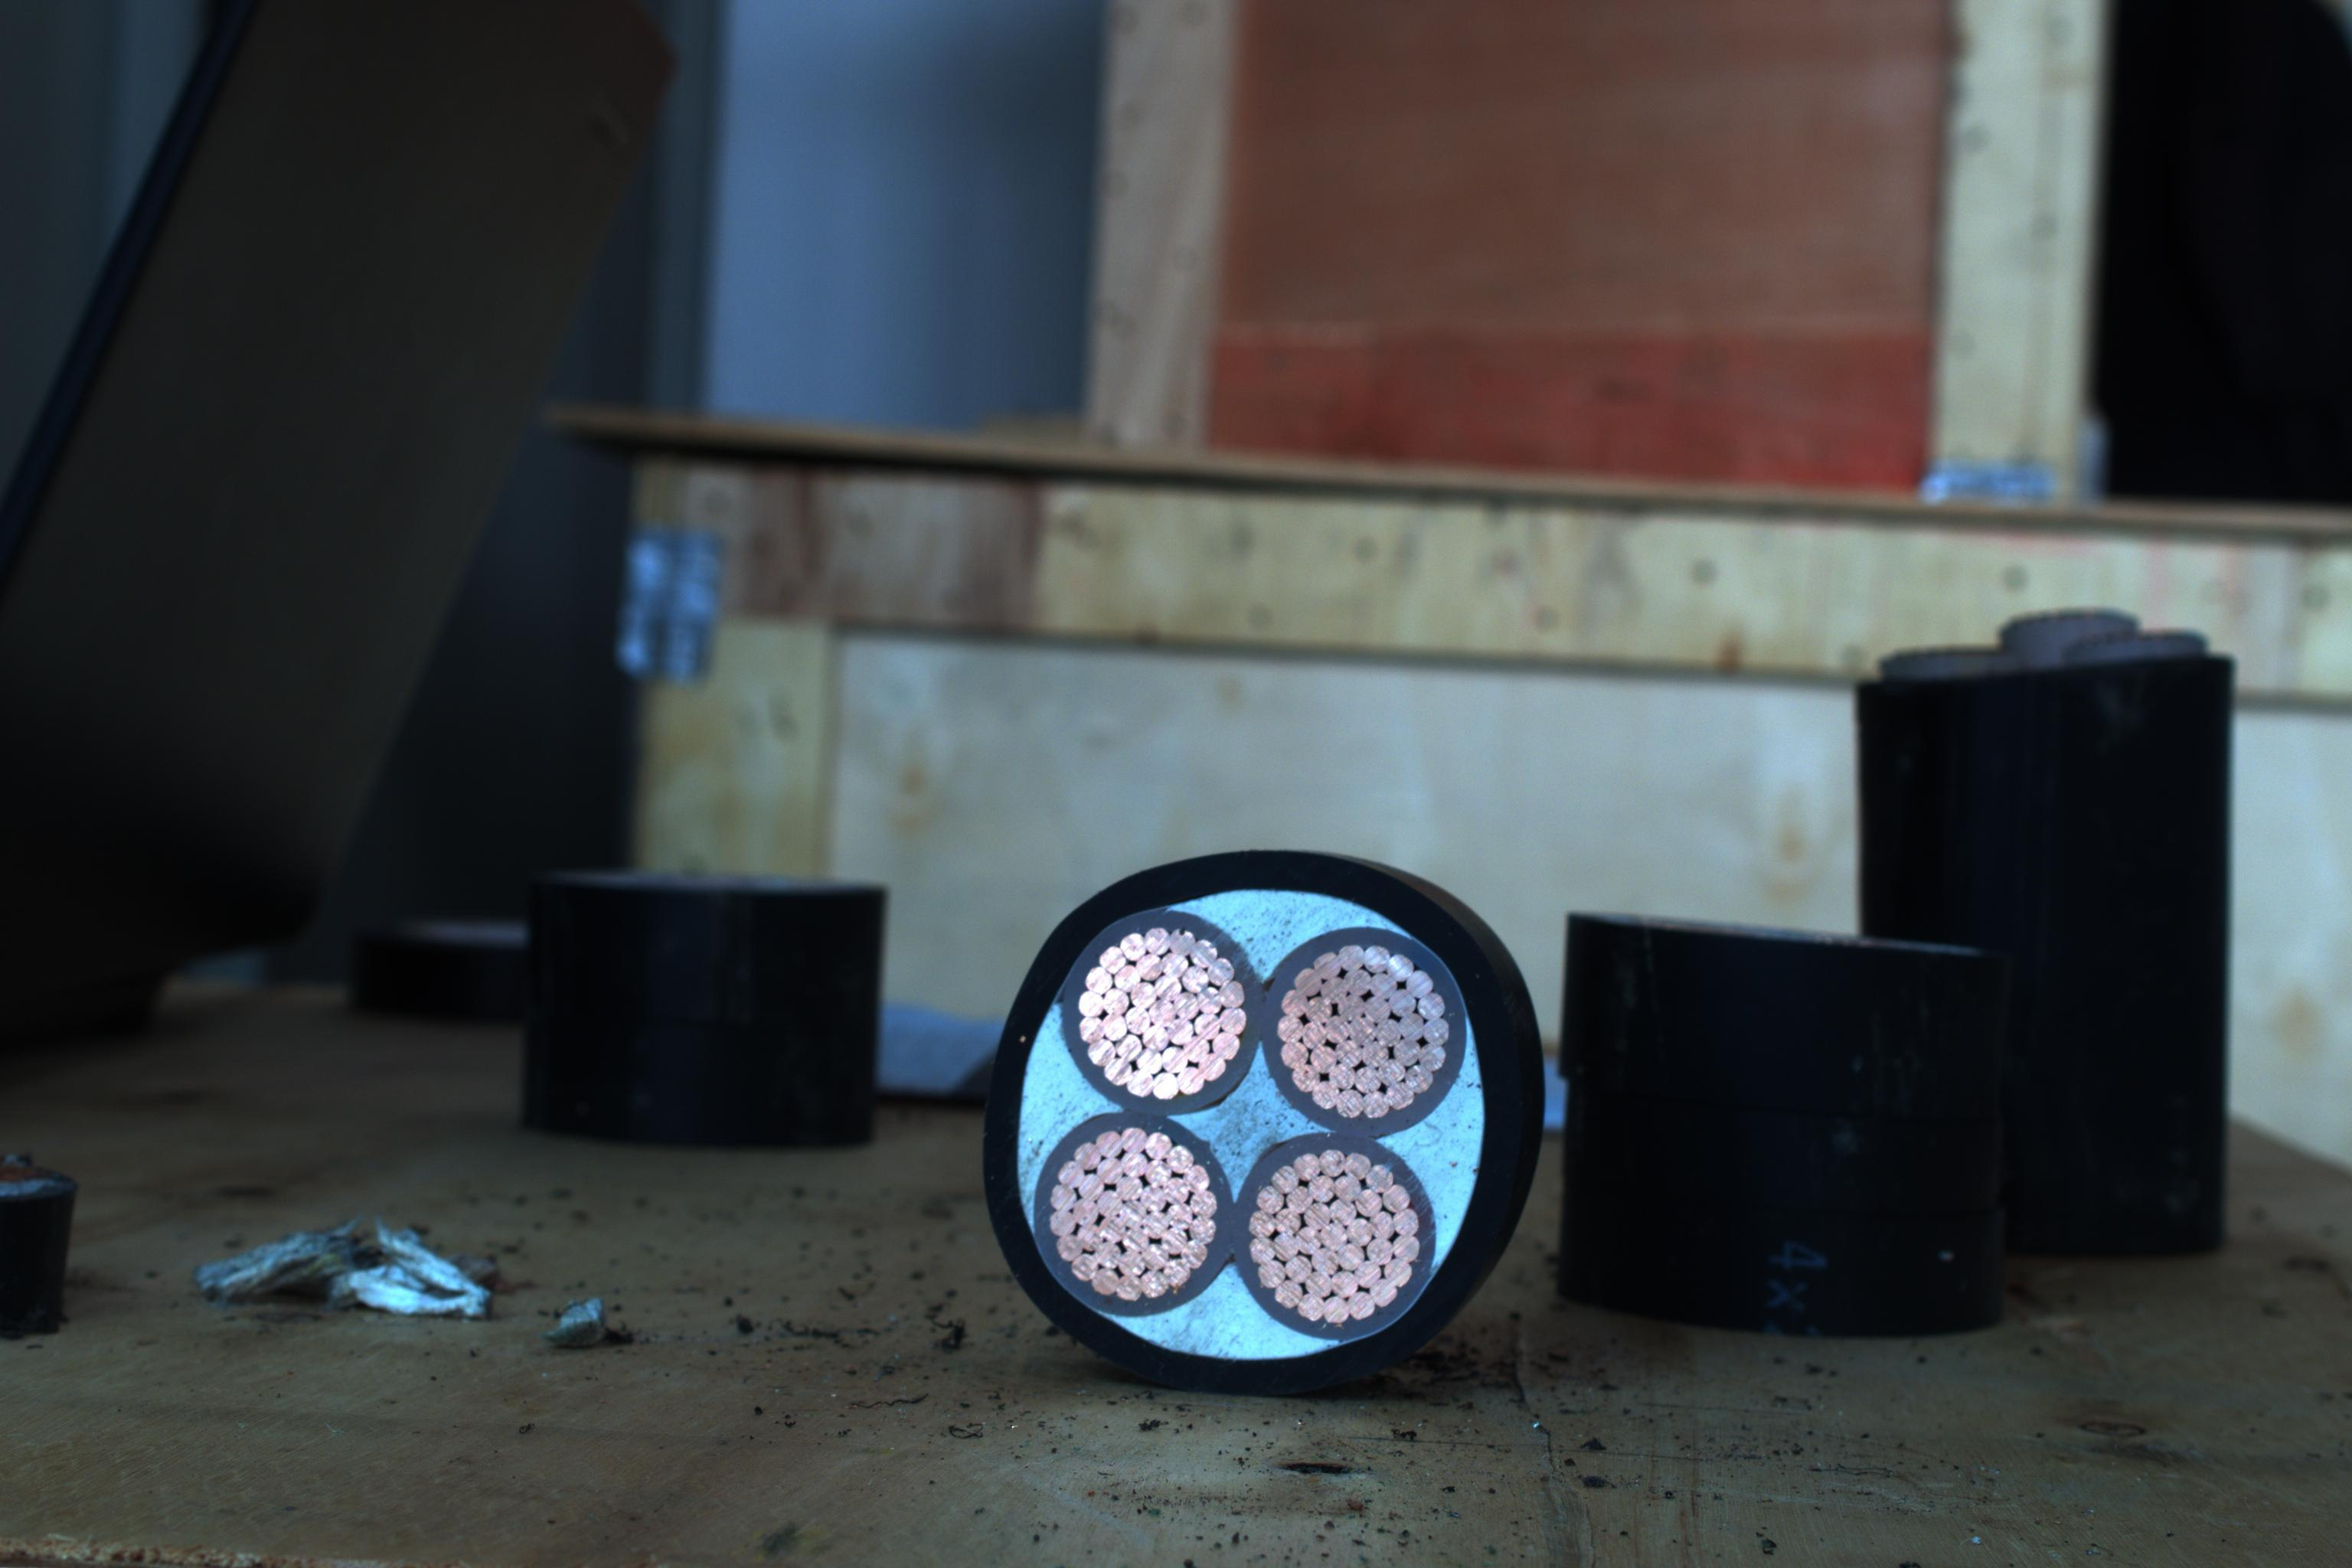YJV_0.6_1kV_4x240: (997, 840, 1501, 1353)
